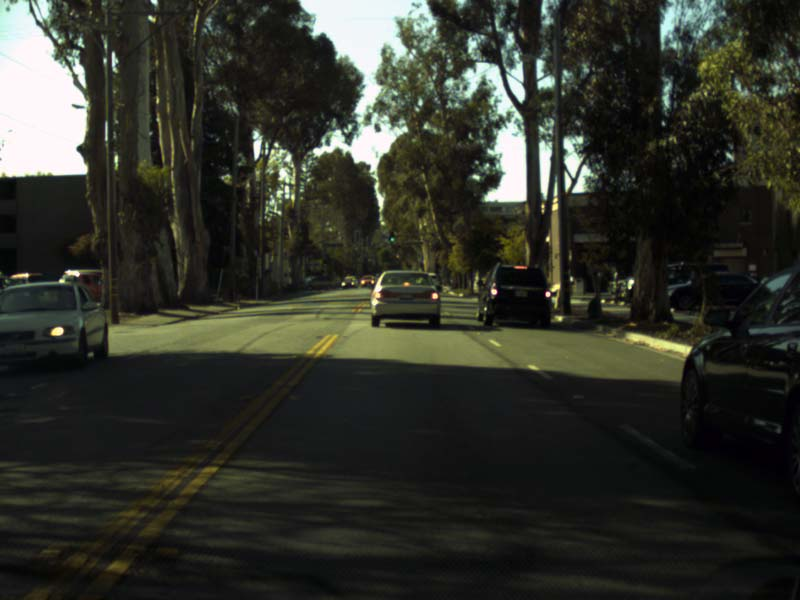Green: (388, 231, 395, 241)
